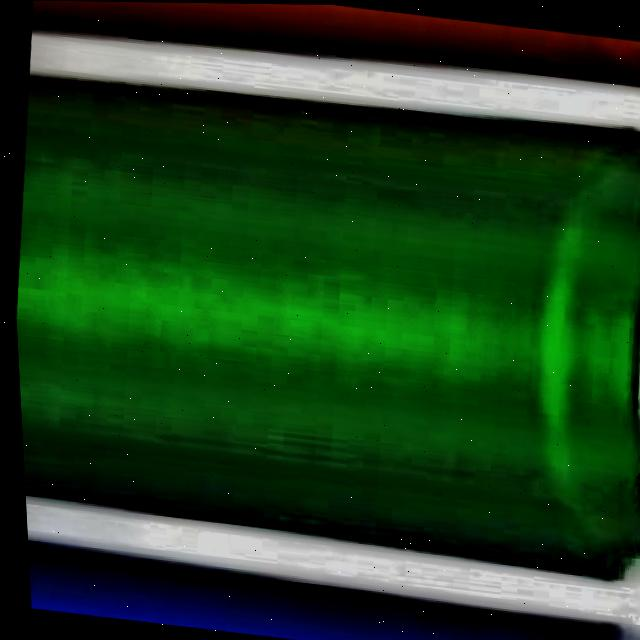metal: (2, 46, 640, 587)
